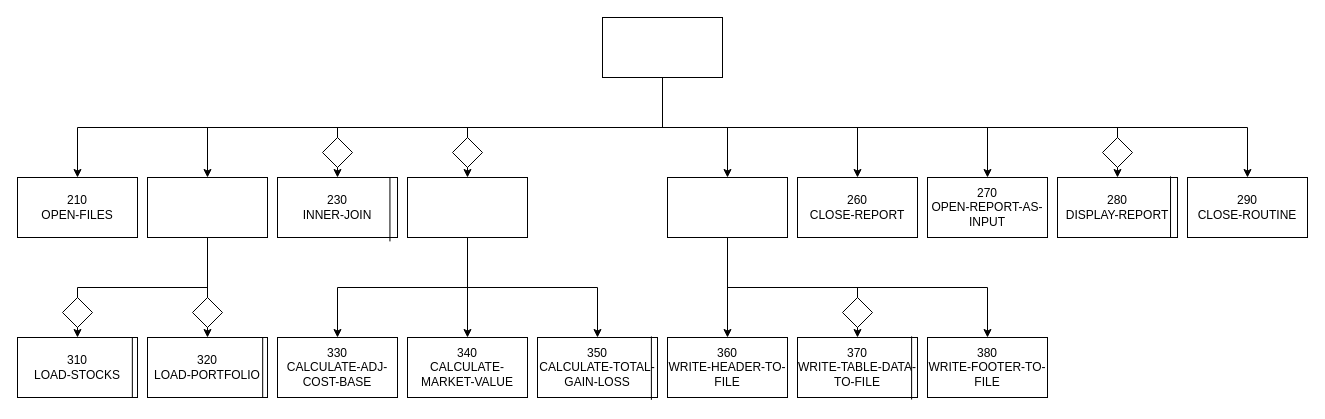
The diagram is 1325 pixels wide and 419 high, and some of its shapes have lost their labels. The shapes that lost their labels are listed below. From the top down, each one's centre as x and y in pixels, then its label:
At point (662, 47): "100 MAIN-PROCEDURE".
At point (207, 207): "220 LOAD-WS".
At point (467, 207): "240 FILL-REPORT-LINE".
At point (727, 207): "250 WRITE-TO-FILE".
